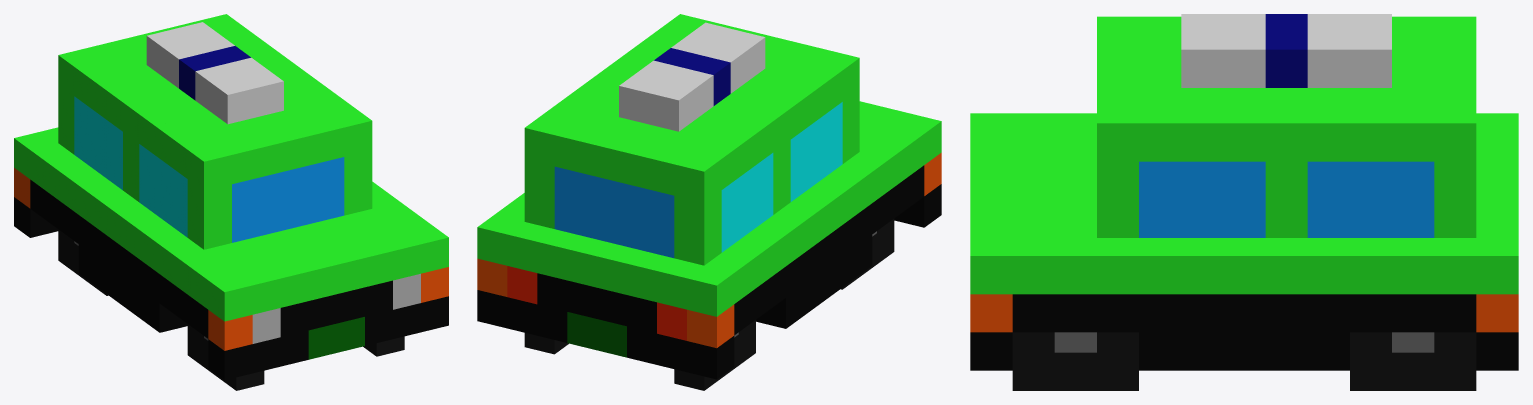
Rendered from Taxi_obj.obj.
3 renders of one model, left to right at view 1: azimuth 30°, elevation 25°; view 2: azimuth 150°, elevation 25°; view 3: azimuth 270°, elevation 25°, orthographic. The views are drawn at different scales.
Visible parts, largest first — view 1: 立方体.209; view 2: 立方体.209; view 3: 立方体.209.
Boxes of the visible parts, x1,y1,x2,y2 form: 立方体.209: (14,14,448,390); 立方体.209: (477,14,941,390); 立方体.209: (970,14,1518,390).
Size of the model in its own units: 8 by 8 by 13.
